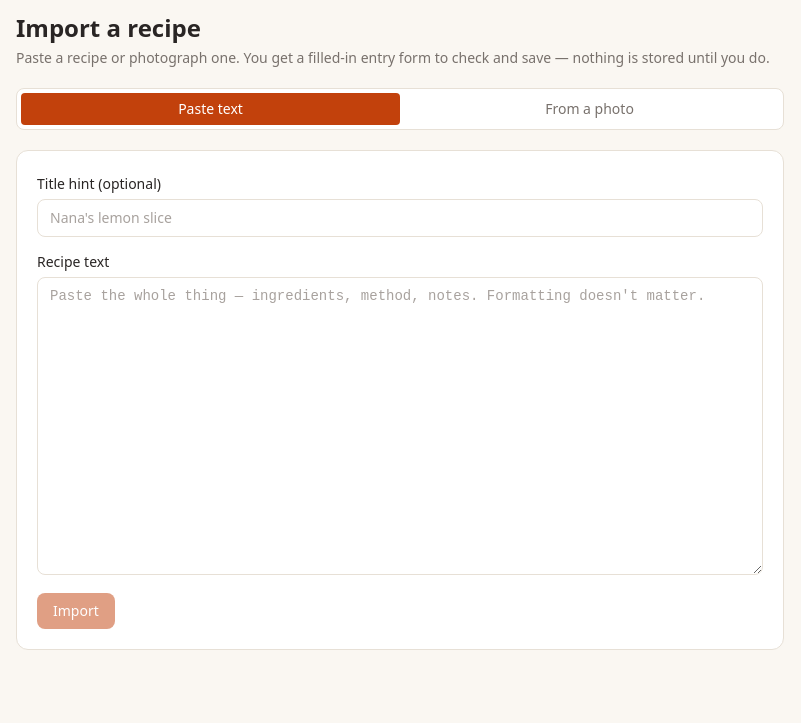
Scenario: ImportPage › shows an error and re-enables the form when the import fails
Replace the text in the text box with placeholder "Paste the whole thing" with "Flour, sugar, eggs." at (400, 426), box [37, 277, 763, 575]
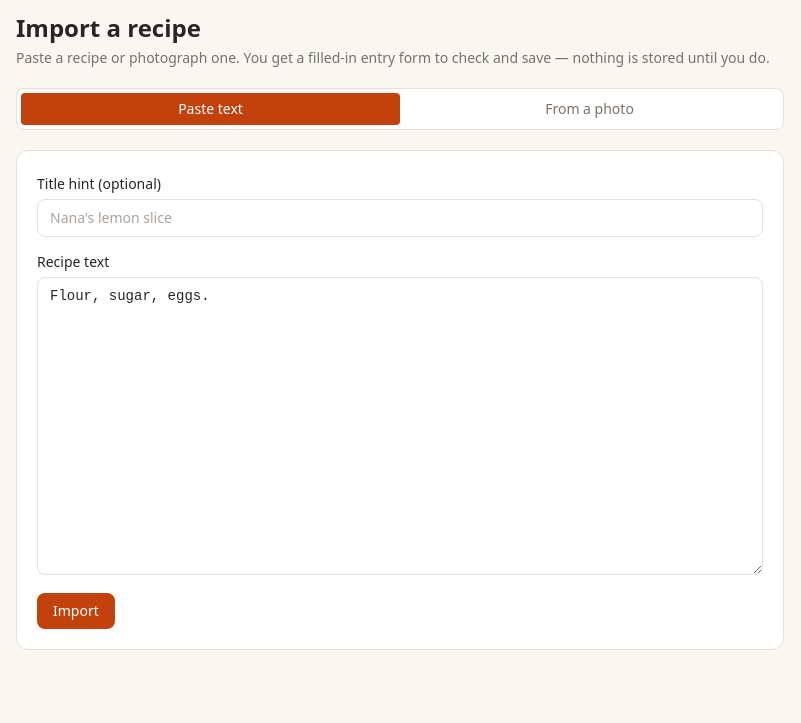
Click the button "Import".
click(76, 611)  # box [37, 593, 115, 629]
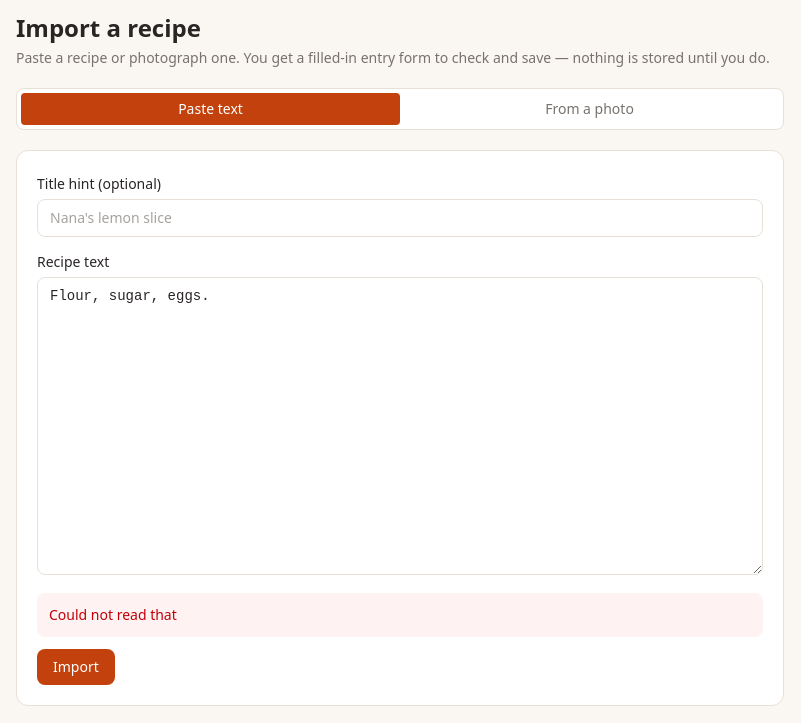
Now the button "Import" is enabled, box [37, 649, 115, 685]
Now the text "Could not read that" is shown, box [37, 593, 763, 637]
